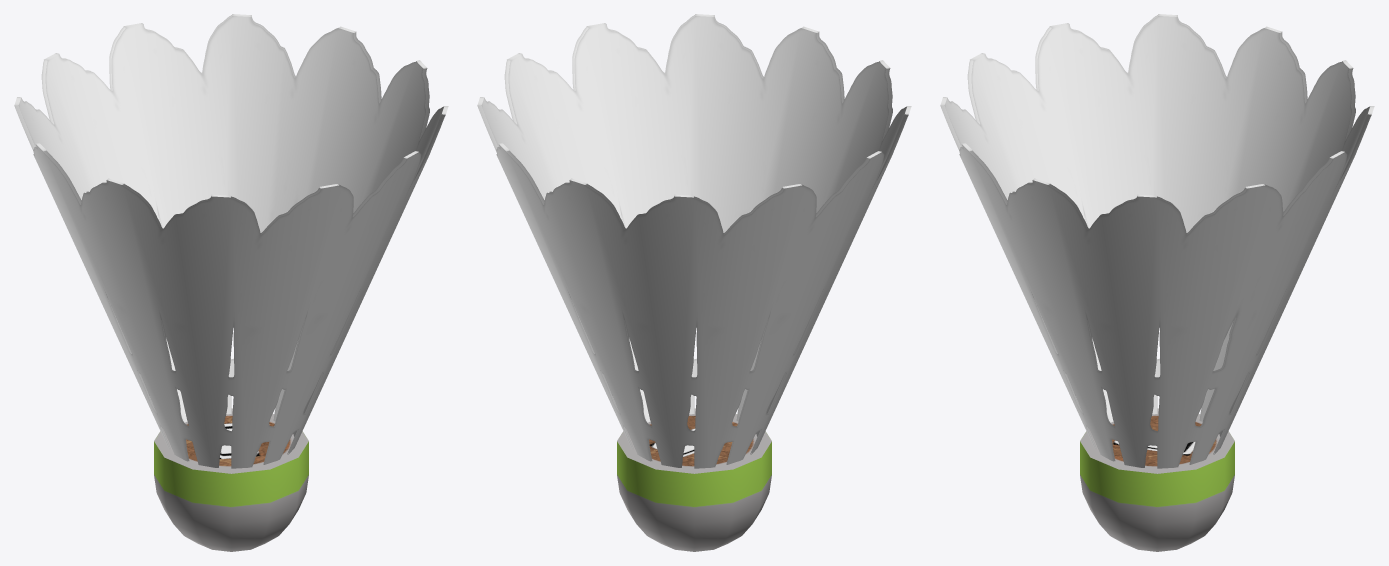
File: shuttlecock.fbx
The picture shows the model from 3 angles, left to right: view 1: azimuth 30°, elevation 25°; view 2: azimuth 150°, elevation 25°; view 3: azimuth 270°, elevation 25°; orthographic projection.
Visible parts, largest first — view 1: polySurface3; view 2: polySurface3; view 3: polySurface3.
Part boxes in pixels (left/top/right/bottom): polySurface3: left=14, top=14, right=448, bottom=551; polySurface3: left=477, top=14, right=911, bottom=551; polySurface3: left=940, top=14, right=1374, bottom=551.
Bounding box in the file's own units: 22.41 × 25 × 22.41.
2 materials, 2 textured.
